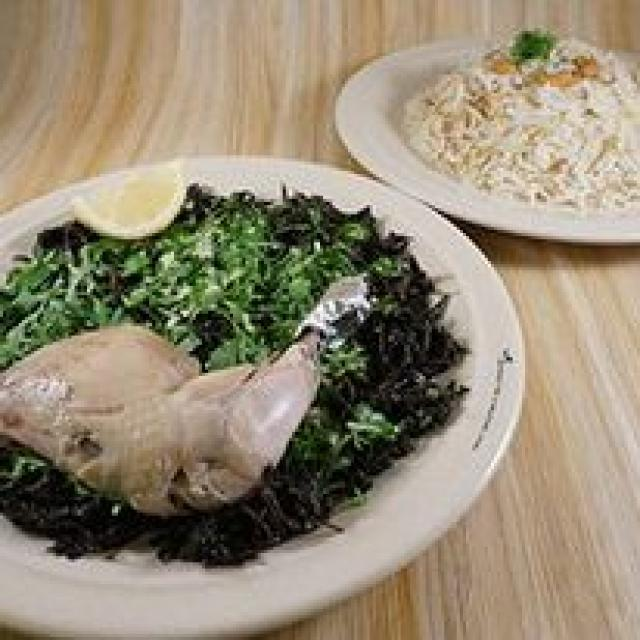Chicken Wings: (227, 286, 323, 460)
White Rice: (407, 31, 634, 214)
